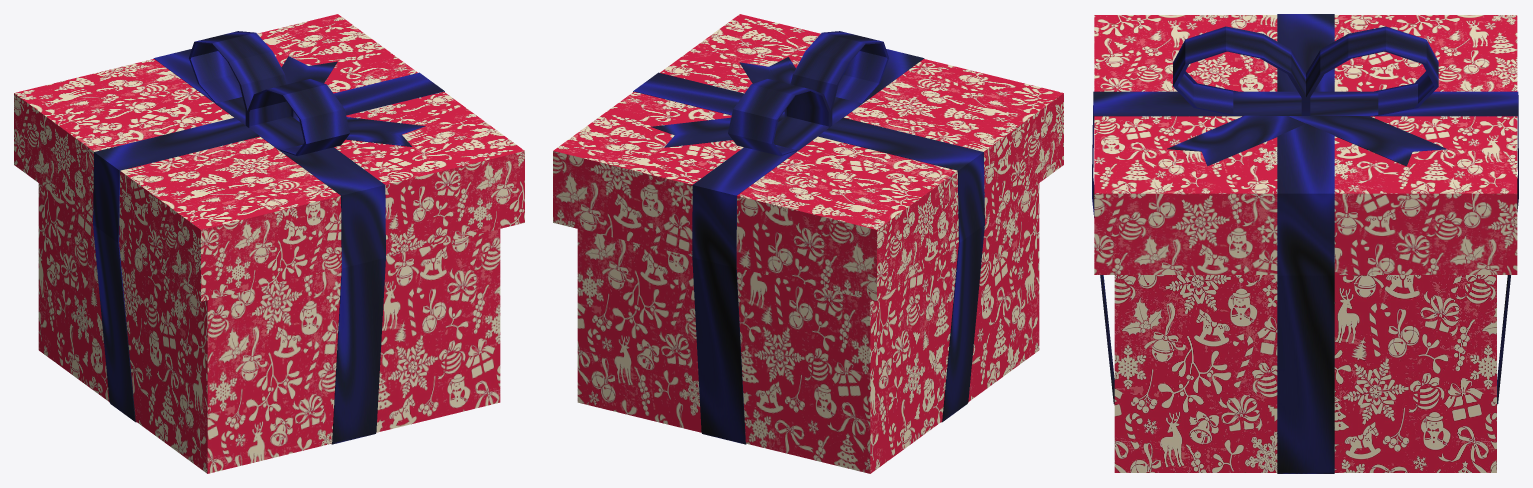
File: Giftbox.obj
3 renders of one model, left to right at view 1: azimuth 30°, elevation 25°; view 2: azimuth 150°, elevation 25°; view 3: azimuth 270°, elevation 25°, orthographic. The views are drawn at different scales.
Visible parts, largest first — view 1: Plane.015; view 2: Plane.015; view 3: Plane.015.
Part boxes in pixels (x1,y1,x2,y2): Plane.015: [14, 14, 524, 473]; Plane.015: [553, 14, 1063, 473]; Plane.015: [1092, 14, 1518, 473].
Bounding box in the file's own units: 2.23 × 2.05 × 2.23.
